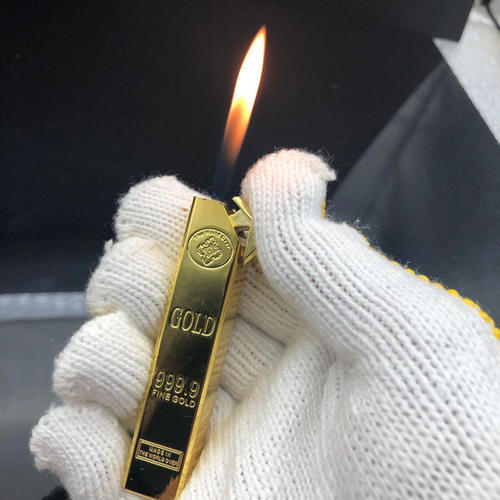Fire: (217, 18, 269, 183)
